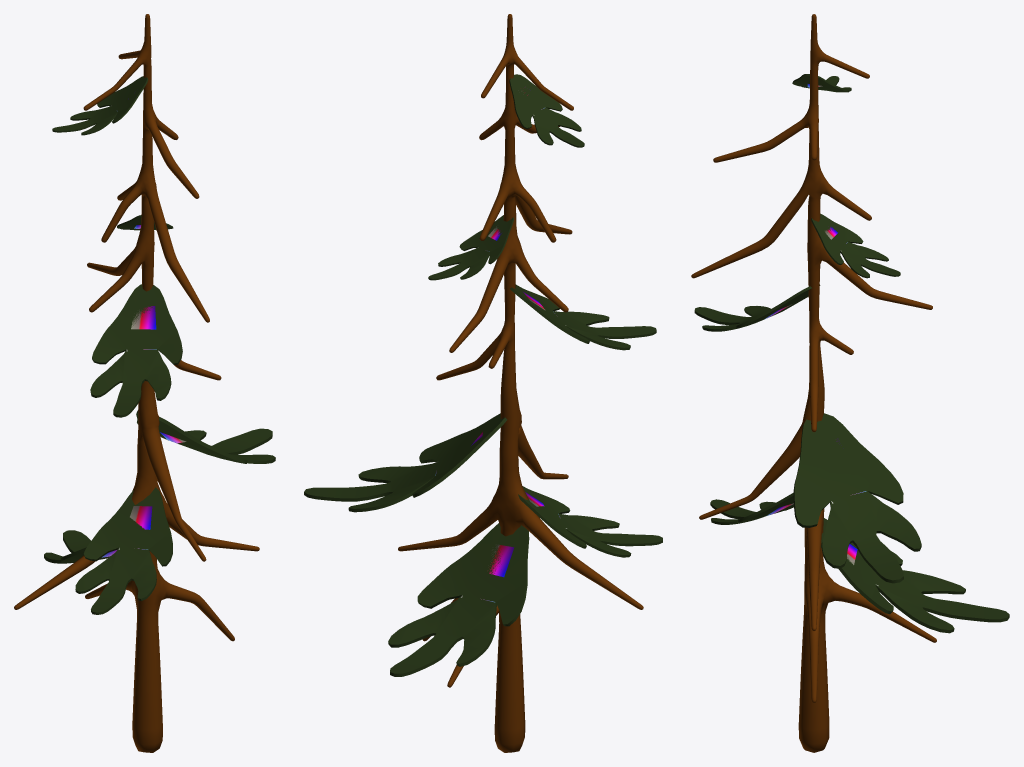
File: tree2.fbx
The picture shows the model from 3 angles, left to right: view 1: azimuth 30°, elevation 25°; view 2: azimuth 150°, elevation 25°; view 3: azimuth 270°, elevation 25°; orthographic projection.
Parts seen in each view (by area): view 1: tree2; view 2: tree2; view 3: tree2.
Boxes of the visible parts, x1,y1,x2,y2 form: tree2: [14, 14, 275, 752]; tree2: [304, 14, 662, 752]; tree2: [691, 14, 1009, 752].
Bounding box in the file's own units: 74.04 × 175 × 68.58.
